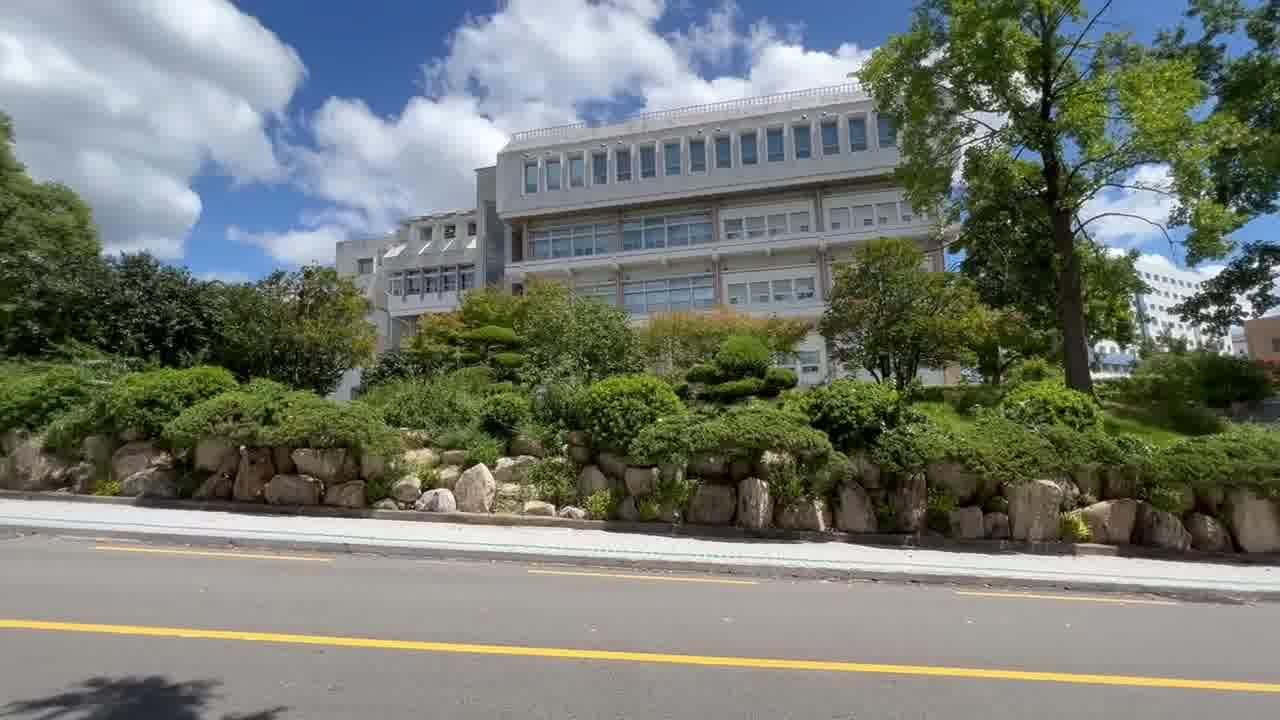building: (473, 87, 893, 272)
